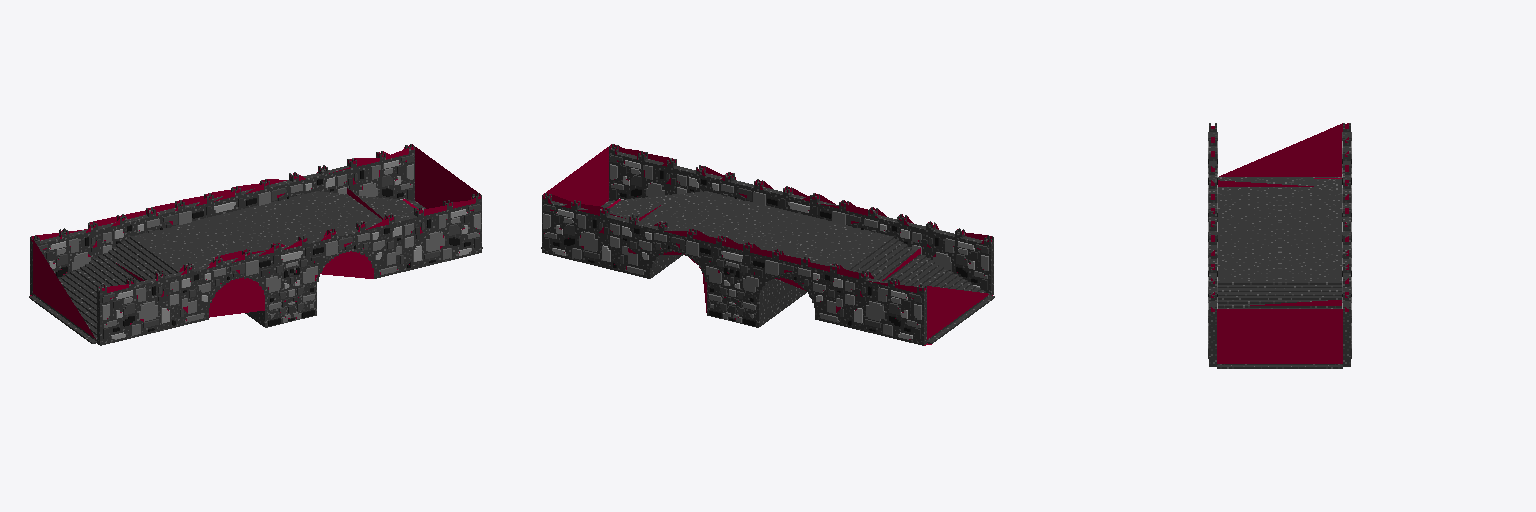
3 renders of one model, left to right at view 1: azimuth 30°, elevation 25°; view 2: azimuth 150°, elevation 25°; view 3: azimuth 270°, elevation 25°, orthographic.
Parts seen in each view (by area): view 1: Bridge; view 2: Bridge; view 3: Bridge.
Part boxes in pixels (x1,y1,x2,y2): Bridge: (29, 144, 482, 345); Bridge: (541, 144, 994, 345); Bridge: (1208, 123, 1351, 368).
Size of the model in its own units: 25.6 by 5 by 8.2.
1 materials, 1 textured.